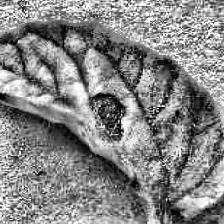disease: (0, 21, 224, 213)
